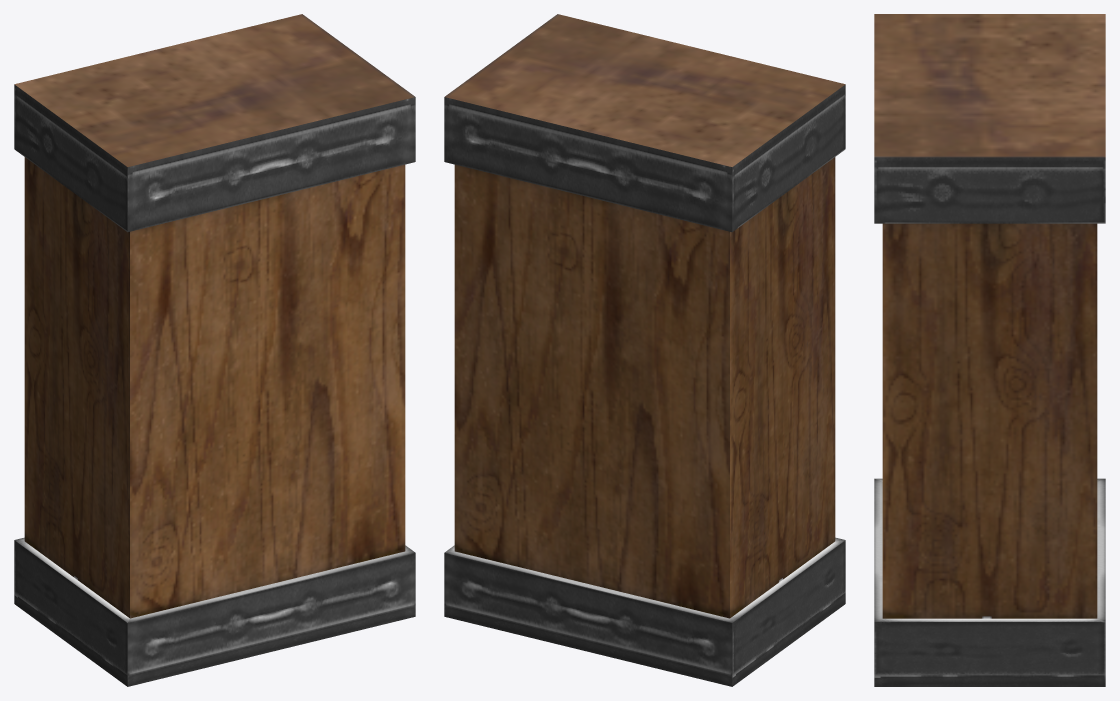
File: 61_ELM_RetangleRock.fbx
3 views of the same model, side by side, from view 1: azimuth 30°, elevation 25°; view 2: azimuth 150°, elevation 25°; view 3: azimuth 270°, elevation 25° (orthographic).
Parts seen in each view (by area): view 1: RetangleRock_mod; view 2: RetangleRock_mod; view 3: RetangleRock_mod.
Part boxes in pixels (<box>): RetangleRock_mod: <box>14,14,415,686</box>; RetangleRock_mod: <box>444,14,845,686</box>; RetangleRock_mod: <box>874,14,1105,686</box>.
Bounding box in the file's own units: 2.09 × 3.6 × 1.42.
Materials: 1 (1 with a texture image).
